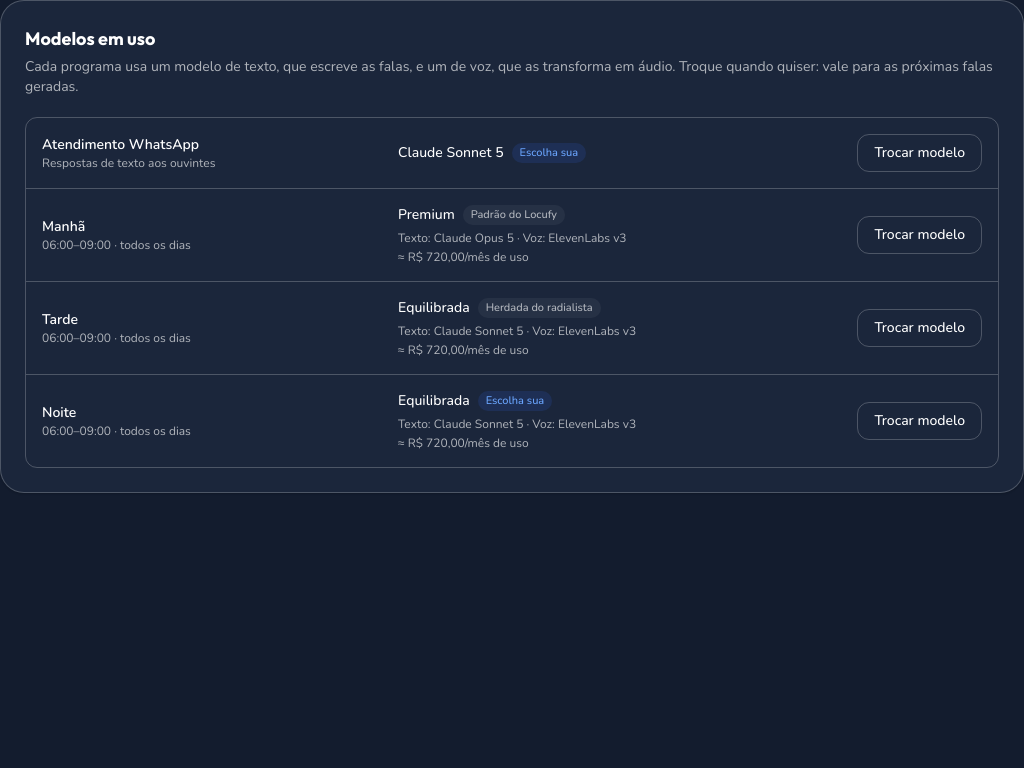
Test: avisa quantos programas trocaram quando um falha no meio
Click the button with aria-label "Trocar modelo de Manhã": point(920, 235) [857,216,982,254]
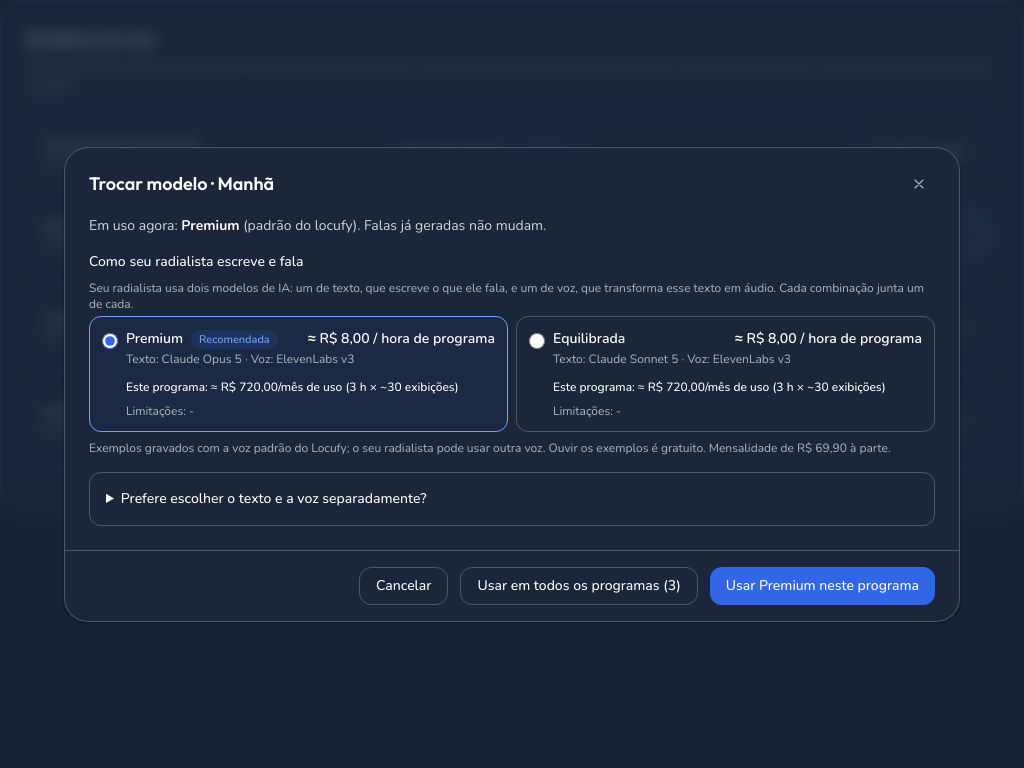
Click the button "Usar em todos os programas (3)": point(579, 586) [460,566,698,604]
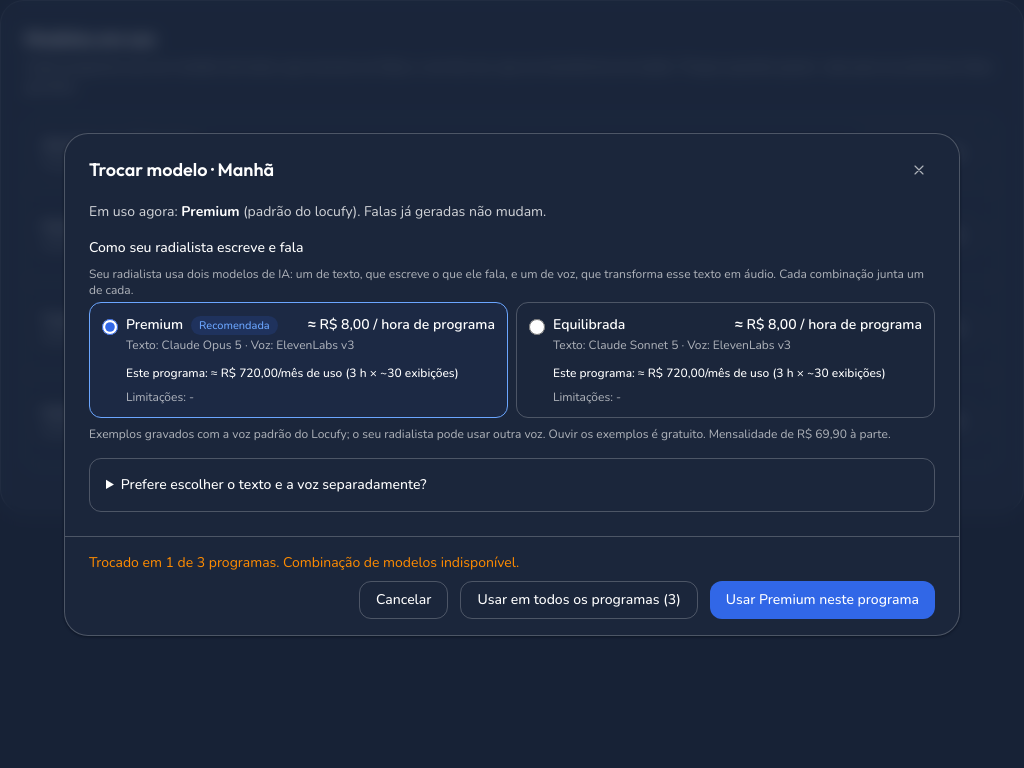
Expected: the message reads "Trocado em 1 de 3 programas. Combinação de modelos indisponível.", [89,552,519,572]
